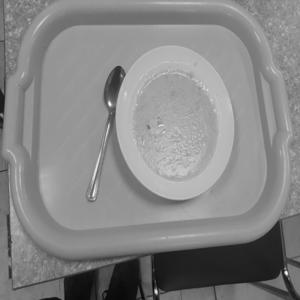porridge: (118, 44, 235, 200)
